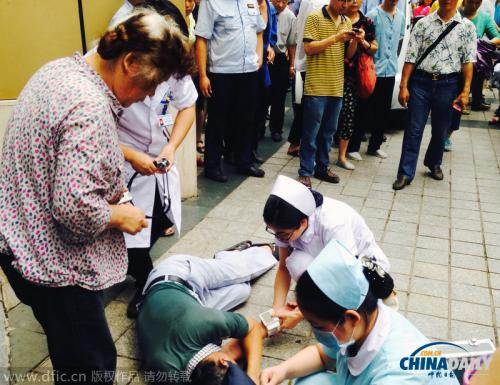10+: (2, 1, 499, 381)
down: (121, 233, 276, 385)
